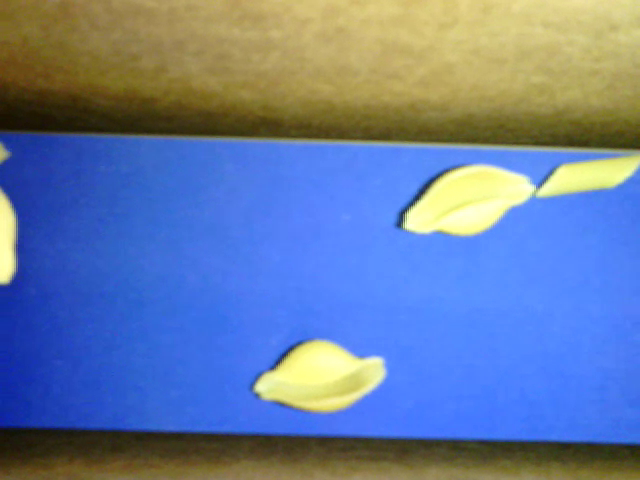penne: (534, 155, 639, 197)
shell: (252, 338, 386, 414), (402, 164, 535, 232)
